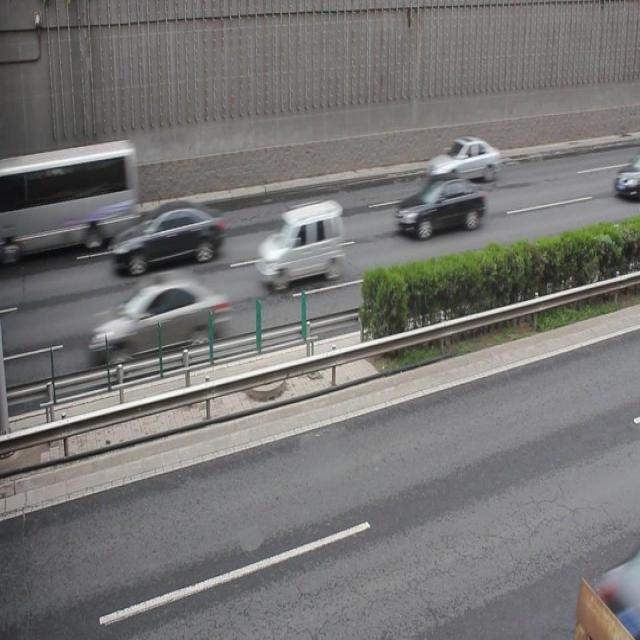car: (92, 276, 228, 365), (112, 199, 223, 272), (394, 176, 484, 239), (428, 135, 496, 189)
truck: (256, 202, 344, 289)
van: (9, 142, 138, 254)
